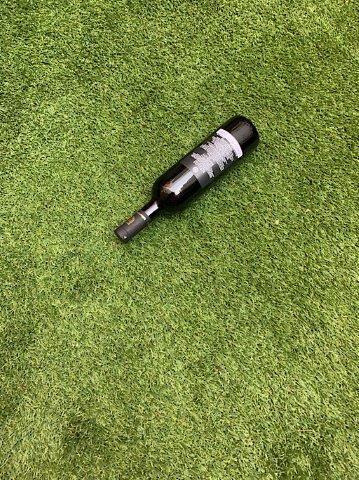botolkaca: (114, 117, 261, 245)
